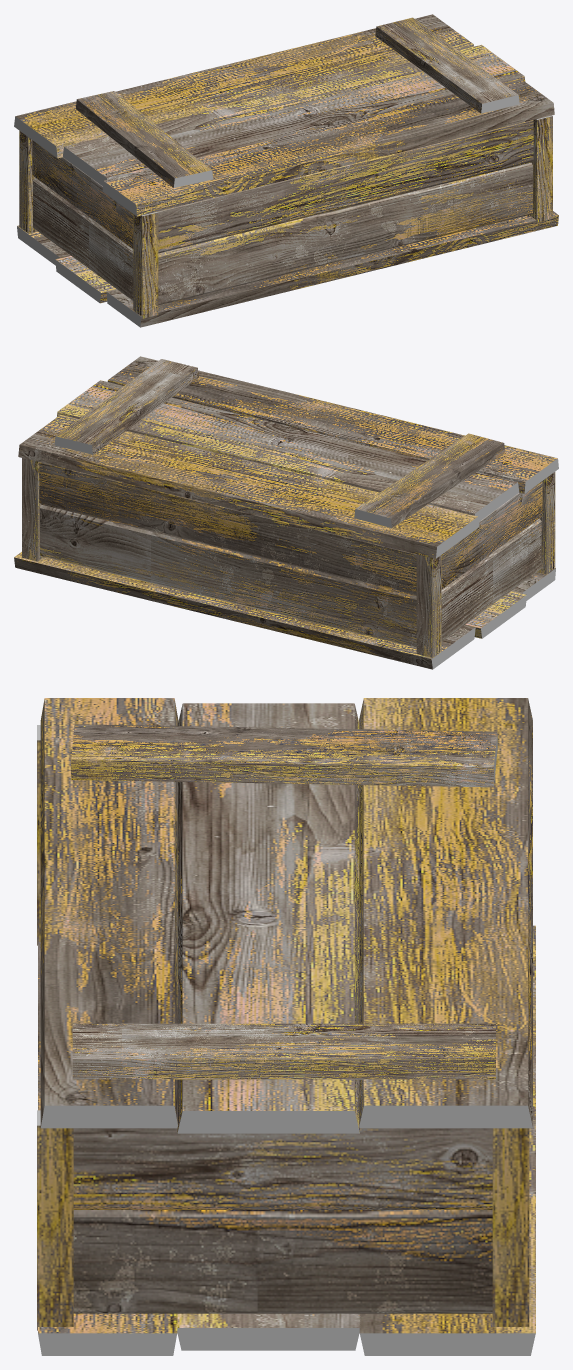
The model's file is Chest1.fbx.
The picture shows the model from 3 angles, top to bottom: view 1: azimuth 30°, elevation 25°; view 2: azimuth 150°, elevation 25°; view 3: azimuth 270°, elevation 25°; orthographic projection. The views are drawn at different scales.
Visible parts, largest first — view 1: polySurface649; view 2: polySurface649; view 3: polySurface649.
Part boxes in pixels (x1,y1,x2,y2): polySurface649: (14, 14, 558, 327); polySurface649: (14, 356, 558, 669); polySurface649: (37, 698, 535, 1355).
Bounding box in the file's own units: 1.87 × 0.558 × 0.9495.
